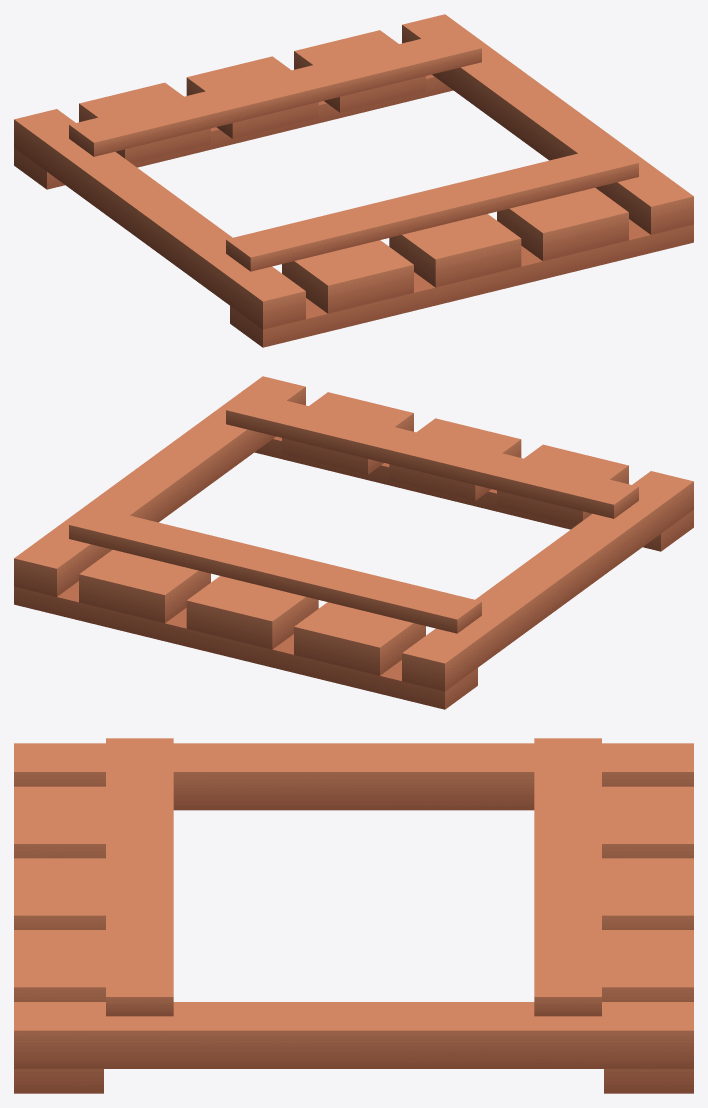
File: floor-hole.glb
The picture shows the model from 3 angles, top to bottom: view 1: azimuth 30°, elevation 25°; view 2: azimuth 150°, elevation 25°; view 3: azimuth 270°, elevation 25°; orthographic projection. The views are drawn at different scales.
Visible parts, largest first — view 1: floor-hole; view 2: floor-hole; view 3: floor-hole.
Boxes of the visible parts, x1,y1,x2,y2 form: floor-hole: (14,14,693,347); floor-hole: (14,376,693,709); floor-hole: (14,738,693,1093).
Size of the model in its own units: 0.5 by 0.0668 by 0.5.
1 material, 1 textured.
